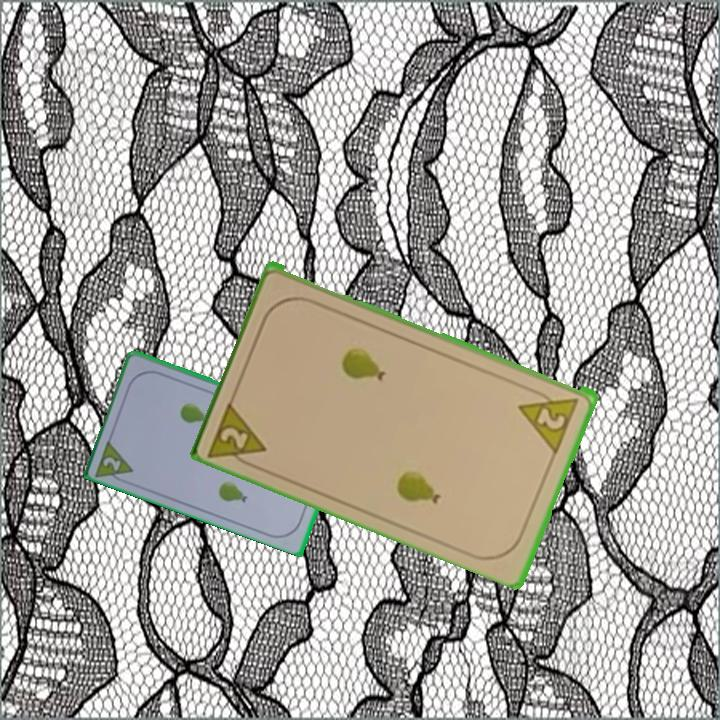2p: (205, 395, 271, 473), (515, 385, 582, 454), (99, 453, 124, 474)
